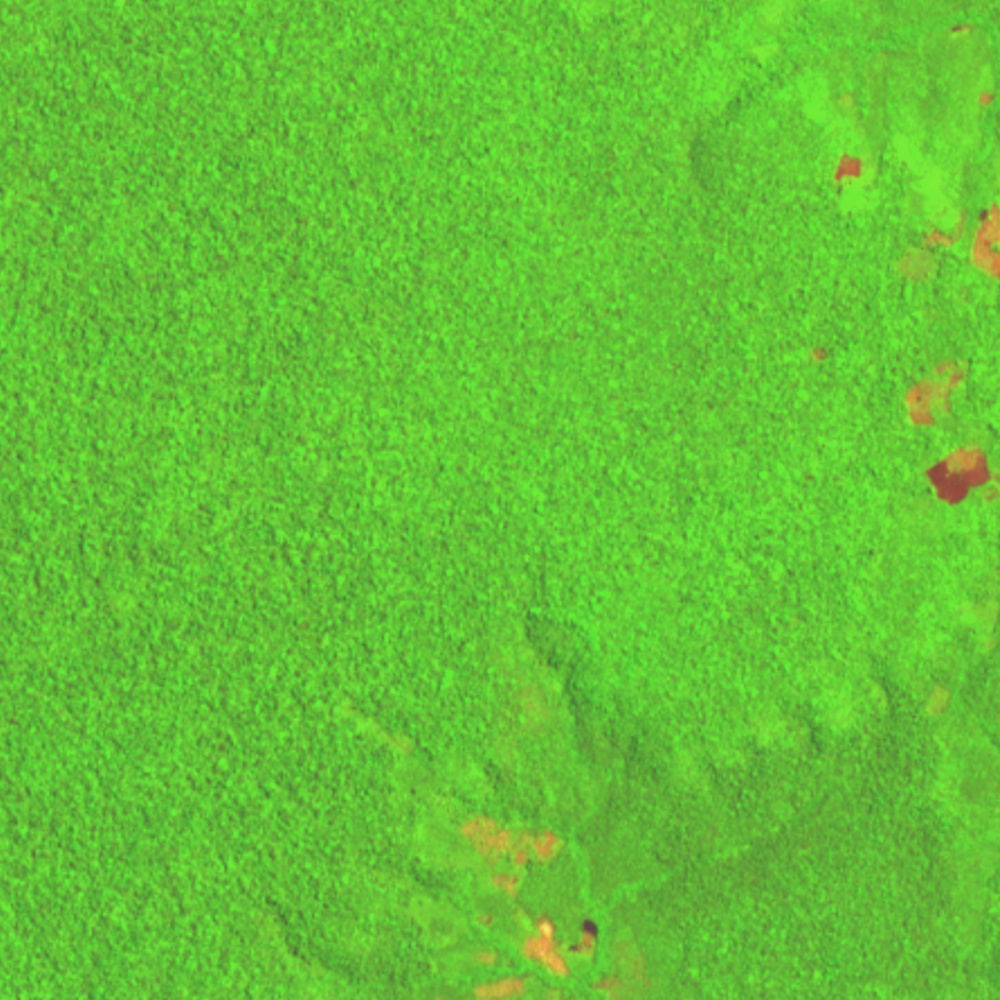legal: (458, 806, 625, 1000), (830, 141, 1000, 284), (904, 359, 1000, 507)
